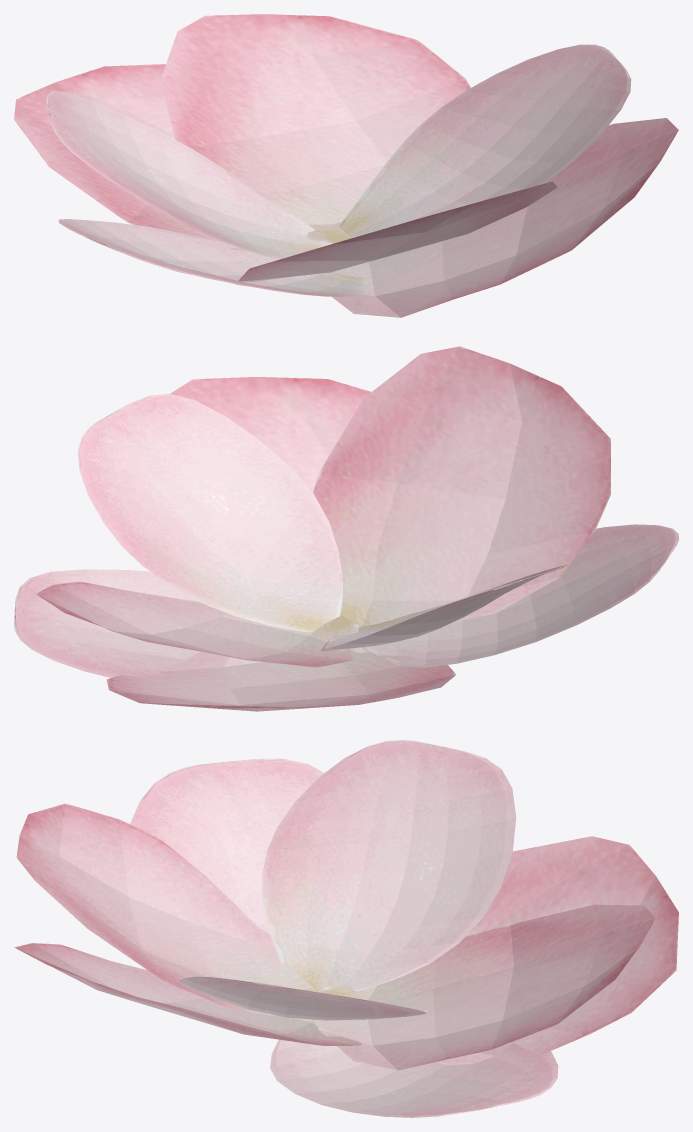
Rendered from flower.glb.
The picture shows the model from 3 angles, top to bottom: view 1: azimuth 30°, elevation 25°; view 2: azimuth 150°, elevation 25°; view 3: azimuth 270°, elevation 25°; orthographic projection.
Visible parts, largest first — view 1: pedal1, pedal2.001, pedal1.003, pedal2, pedal1.002, pedal2.002, pedal1.001; view 2: pedal1.001, pedal2.001, pedal2.002, pedal1.002, pedal1, pedal1.003, pedal2.003, pedal2; view 3: pedal2, pedal1, pedal1.001, pedal1.002, pedal2.002, pedal2.003, pedal1.003, pedal2.001.
Part boxes in pixels (<box>): pedal1: <box>160,14,470,243</box>; pedal2.001: <box>339,44,631,238</box>; pedal1.003: <box>332,118,678,317</box>; pedal2: <box>46,91,331,259</box>; pedal1.002: <box>14,64,248,251</box>; pedal2.002: <box>58,219,369,296</box>; pedal1.001: <box>238,181,557,281</box>; pedal1.001: <box>313,346,610,627</box>; pedal2.001: <box>77,393,342,632</box>; pedal2.002: <box>361,524,678,667</box>; pedal1.002: <box>106,647,456,711</box>; pedal1: <box>36,581,358,667</box>; pedal1.003: <box>170,377,371,492</box>; pedal2.003: <box>14,569,200,680</box>; pedal2: <box>321,564,567,651</box>; pedal2: <box>262,740,516,992</box>; pedal1: <box>314,904,655,1070</box>; pedal1.001: <box>16,803,316,1015</box>; pedal1.002: <box>312,836,678,1065</box>; pedal2.002: <box>130,758,323,933</box>; pedal2.003: <box>270,1039,558,1117</box>; pedal1.003: <box>14,943,361,1045</box>; pedal2.001: <box>178,976,425,1020</box>.
Size of the model in its own units: 8.23 by 2.62 by 8.46.
2 materials, 2 textured.
